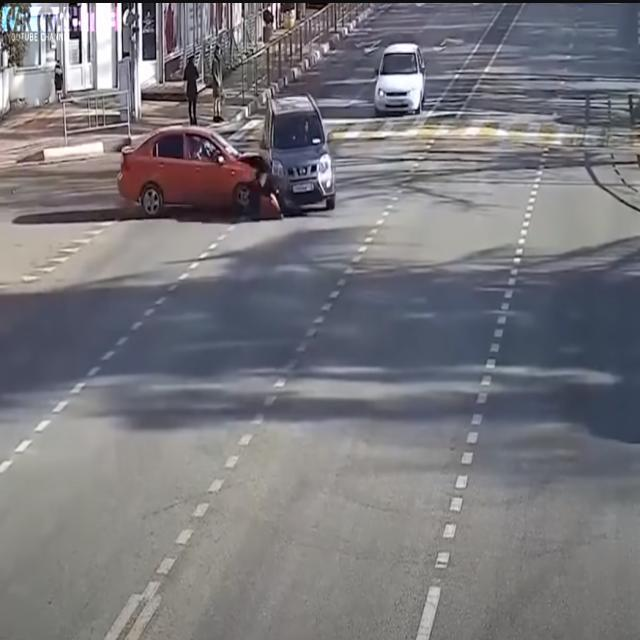accident: (118, 95, 336, 223)
